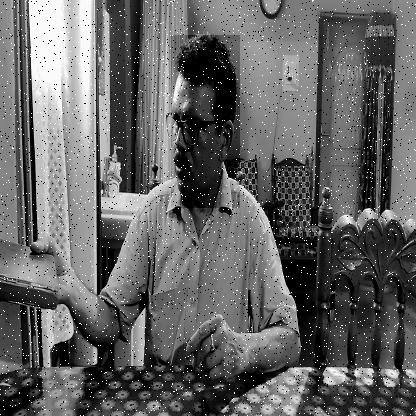Distracted: (171, 35, 240, 208)
